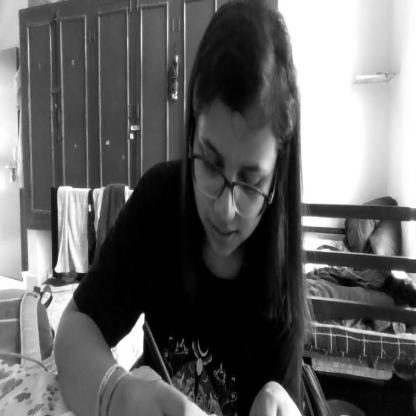Distracted: (190, 4, 298, 270)
